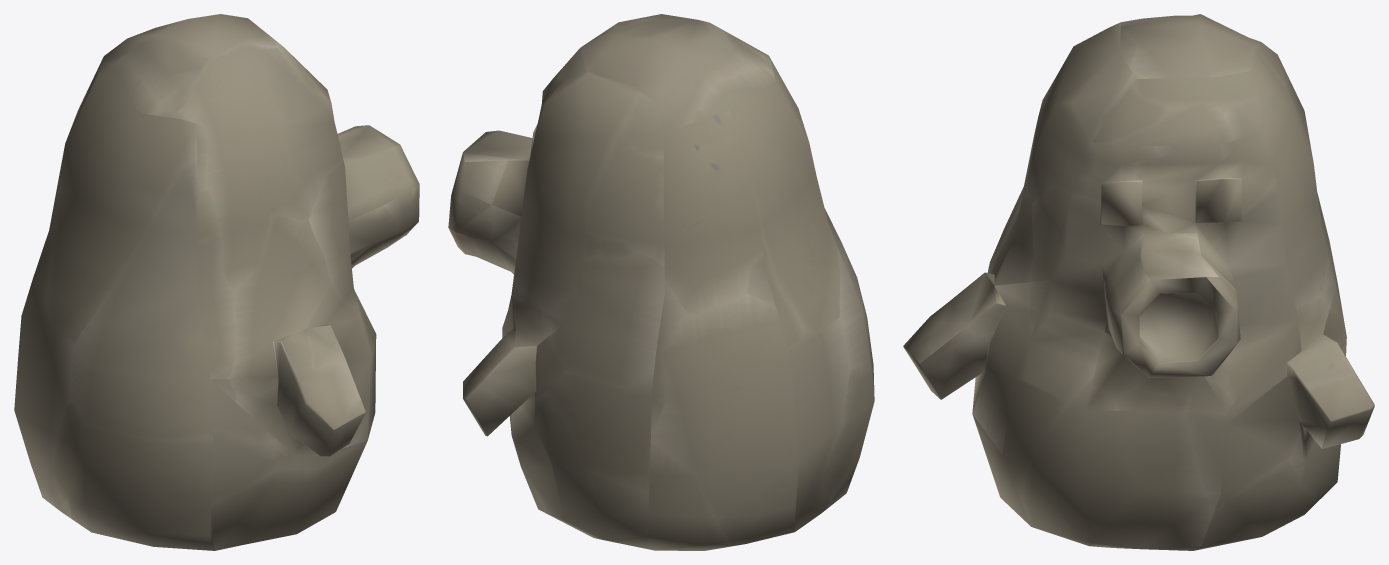
Rendered from ranged.fbx.
3 views of the same model, side by side, from view 1: azimuth 30°, elevation 25°; view 2: azimuth 150°, elevation 25°; view 3: azimuth 270°, elevation 25° (orthographic). The views are drawn at different scales.
Visible parts, largest first — view 1: tripo_node_a4117e92-6b22-49c0-90c5-daab5b21c5f1; view 2: tripo_node_a4117e92-6b22-49c0-90c5-daab5b21c5f1; view 3: tripo_node_a4117e92-6b22-49c0-90c5-daab5b21c5f1.
Part boxes in pixels (x1=…): tripo_node_a4117e92-6b22-49c0-90c5-daab5b21c5f1: x1=14, y1=14, x2=419, y2=550; tripo_node_a4117e92-6b22-49c0-90c5-daab5b21c5f1: x1=448, y1=14, x2=874, y2=550; tripo_node_a4117e92-6b22-49c0-90c5-daab5b21c5f1: x1=903, y1=14, x2=1374, y2=550.
Size of the model in its own units: 0.8121 by 1 by 0.8943.
